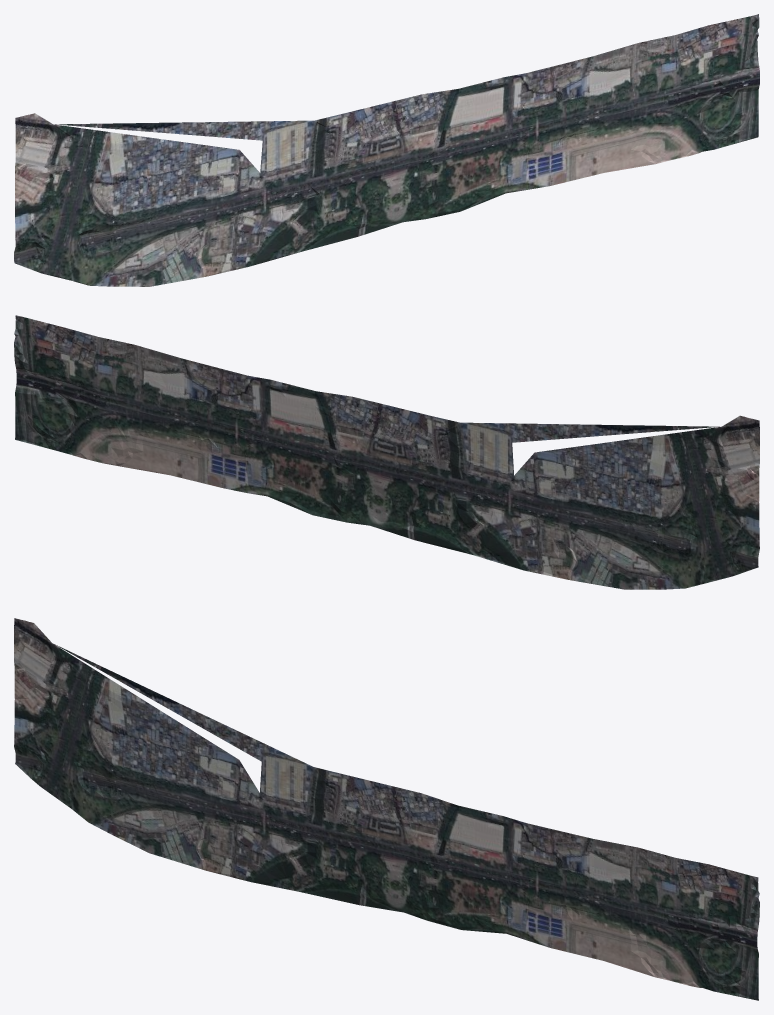
The picture shows the model from 3 angles, top to bottom: view 1: azimuth 30°, elevation 25°; view 2: azimuth 150°, elevation 25°; view 3: azimuth 330°, elevation 25°; orthographic projection.
Visible parts, largest first — view 1: 0_2_3_1; view 2: 0_2_3_1; view 3: 0_2_3_1.
Boxes of the visible parts, <box> form: 0_2_3_1: <box>14,14,759,286</box>; 0_2_3_1: <box>14,315,759,589</box>; 0_2_3_1: <box>14,618,759,1000</box>.
Bounding box in the file's own units: 1945 × 516 × 14.66.
Materials: 1 (1 with a texture image).
